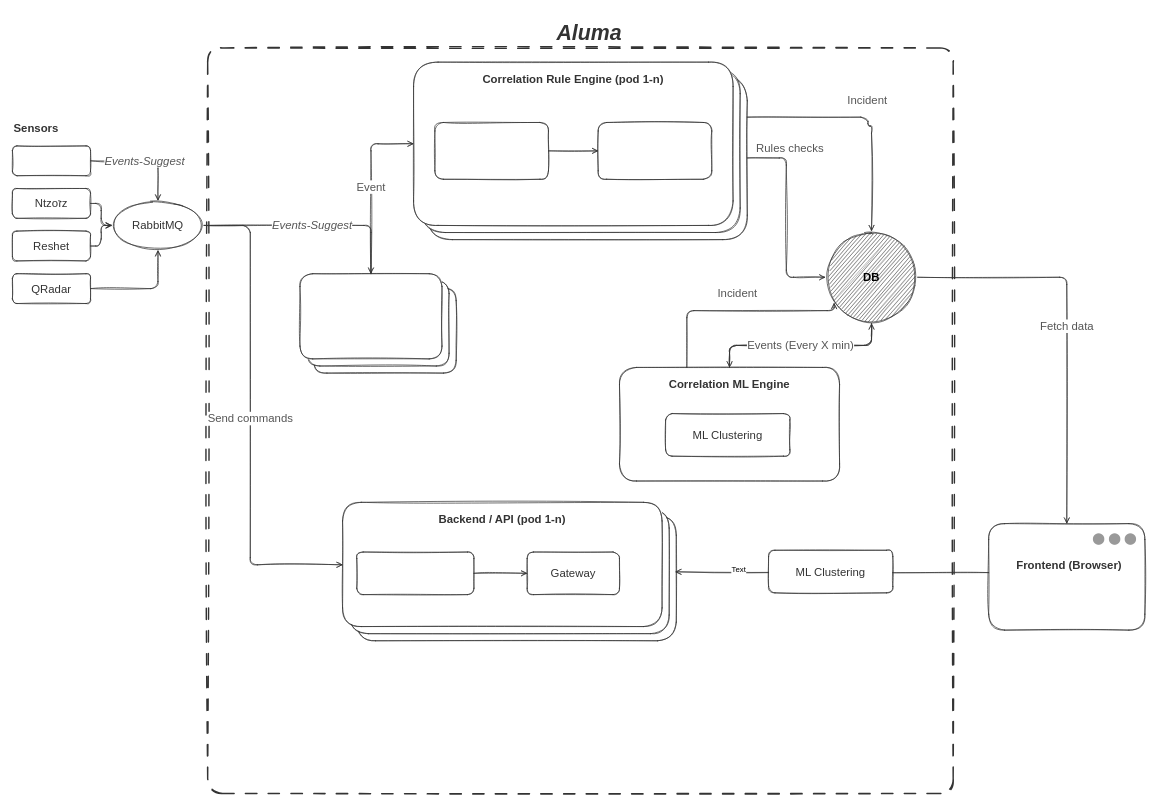
Image size: 1157x806. Some labels were removed from this diagram. Each missing label, with the centre of its shape:
"Event Ingestion (pod 1-n)" belongs at (370,316).
"Incident creation engine" belongs at (654,150).
"Nadan" belongs at (51,160).
"Start scan / Fetch events" belongs at (415,573).
"Suppress rules if needed" belongs at (491,150).
